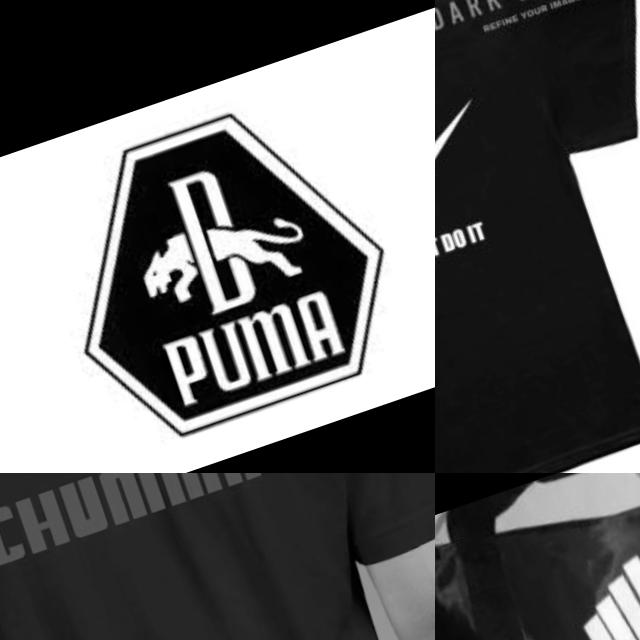ADIDAS_fake: (533, 542, 640, 640)
NIKE_fake: (435, 81, 533, 316)
PUMA_fake: (102, 130, 328, 370), (0, 473, 323, 596)
